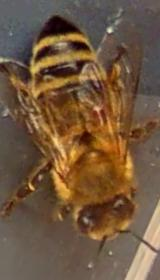varroa_mite: (81, 98, 120, 140)
